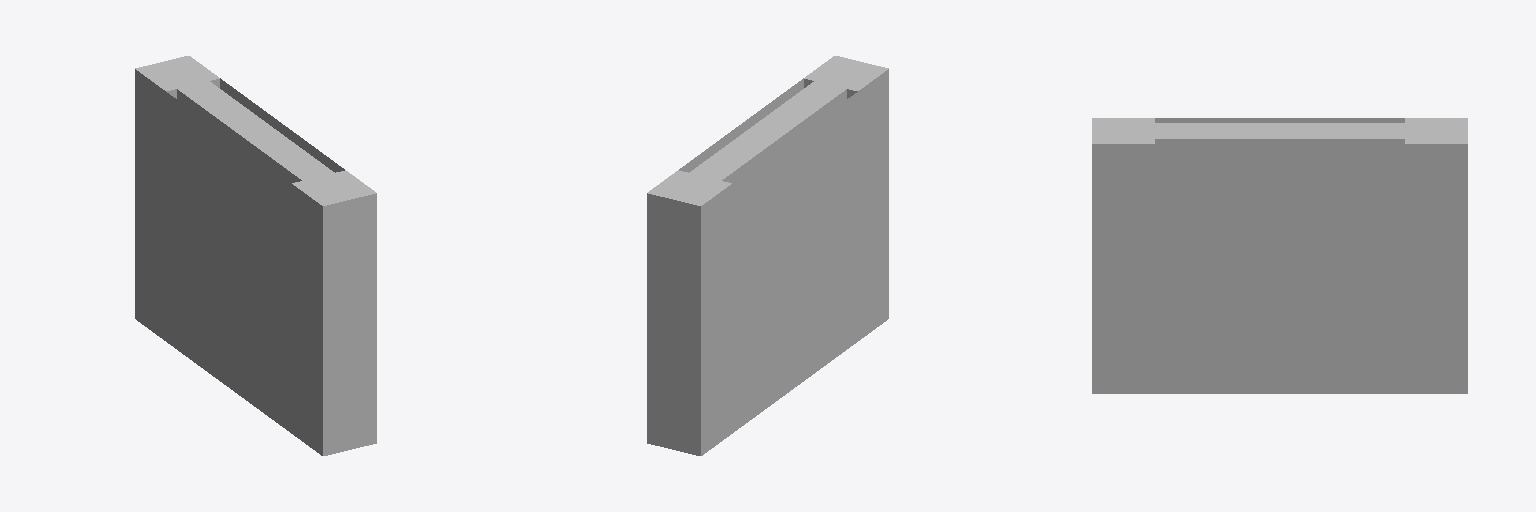
The model's file is Wood_Border_Wall_01.obj.
3 views of the same model, side by side, from view 1: azimuth 30°, elevation 25°; view 2: azimuth 150°, elevation 25°; view 3: azimuth 270°, elevation 25° (orthographic).
Parts seen in each view (by area): view 1: Mesh1 Wood_Border_Wall Model; view 2: Mesh1 Wood_Border_Wall Model; view 3: Mesh1 Wood_Border_Wall Model.
Boxes of the visible parts, x1,y1,x2,y2 form: Mesh1 Wood_Border_Wall Model: [135, 56, 376, 455]; Mesh1 Wood_Border_Wall Model: [647, 56, 888, 455]; Mesh1 Wood_Border_Wall Model: [1092, 118, 1467, 393].
Bounding box in the file's own units: 0.5 × 2.2 × 3.